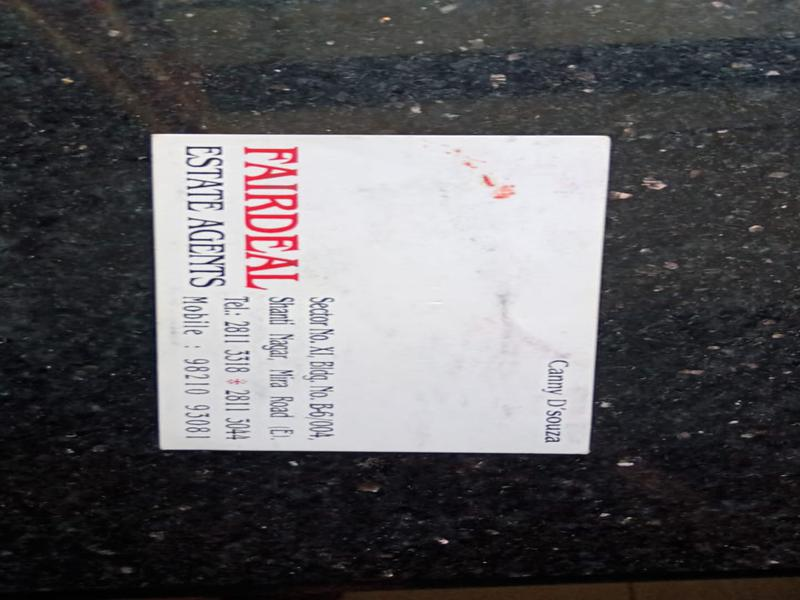card: (140, 130, 612, 466)
